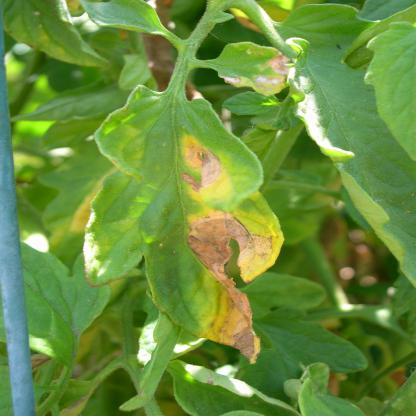tomato early blight leaf: (84, 78, 273, 364)
